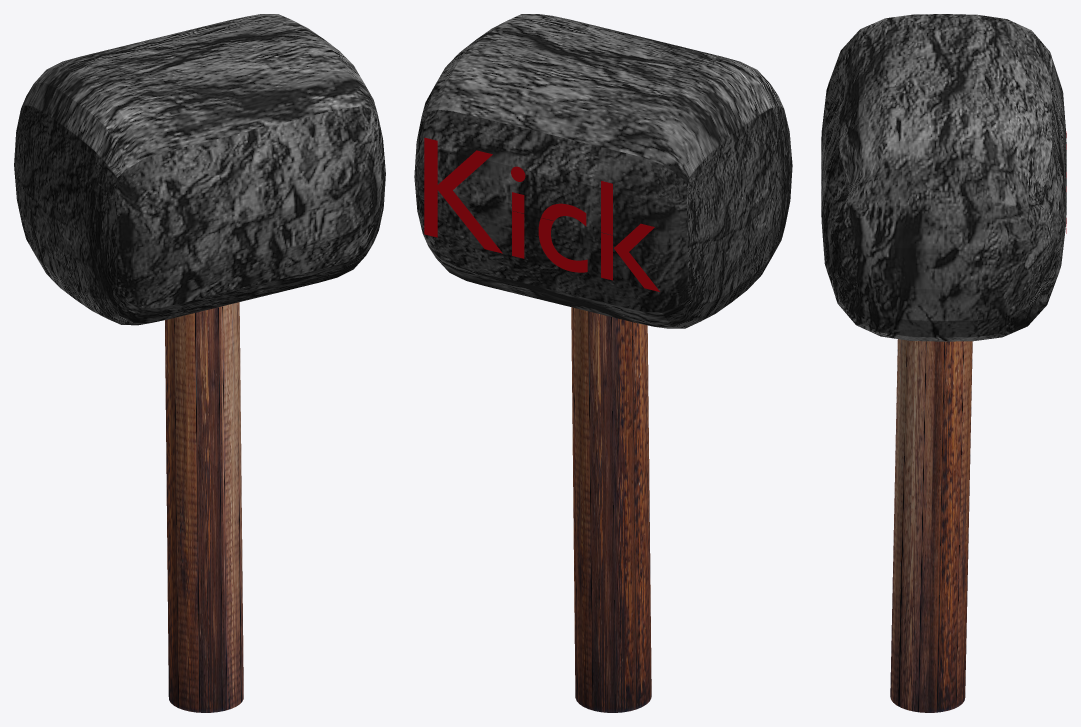
File: kickHammer_realistic.fbx
The picture shows the model from 3 angles, left to right: view 1: azimuth 30°, elevation 25°; view 2: azimuth 150°, elevation 25°; view 3: azimuth 270°, elevation 25°; orthographic projection.
Parts seen in each view (by area): view 1: Thing, Handle; view 2: Thing, Handle, Text; view 3: Thing, Handle.
Boxes of the visible parts, x1,y1,x2,y2 form: Thing: (14, 14, 385, 325); Handle: (165, 302, 243, 712); Thing: (414, 14, 792, 328); Handle: (571, 307, 651, 712); Text: (424, 137, 659, 291); Thing: (821, 14, 1066, 341); Handle: (890, 339, 972, 712).
Bounding box in the file's own units: 85.22 × 178 × 62.28.
